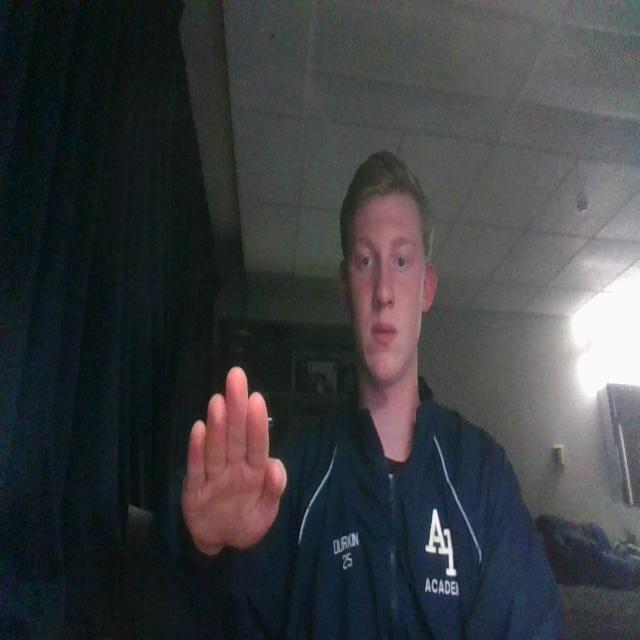paper: (176, 355, 290, 564)
